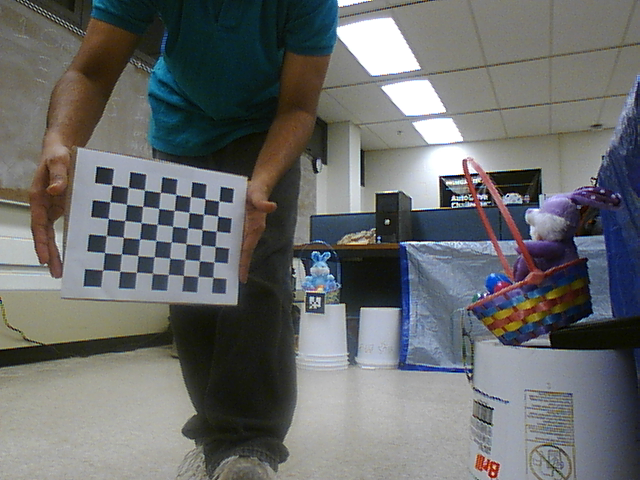bunny: (451, 151, 610, 356)
